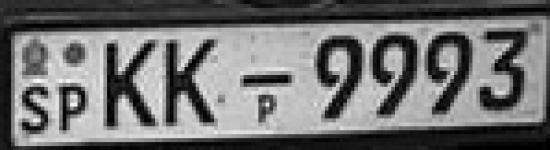-: (236, 66, 296, 92)
3: (476, 25, 532, 116)
9: (308, 30, 368, 126), (365, 26, 422, 124), (421, 28, 475, 120)
K: (99, 34, 163, 134), (162, 31, 220, 135)
P: (54, 80, 92, 137)
S: (17, 80, 56, 135)
